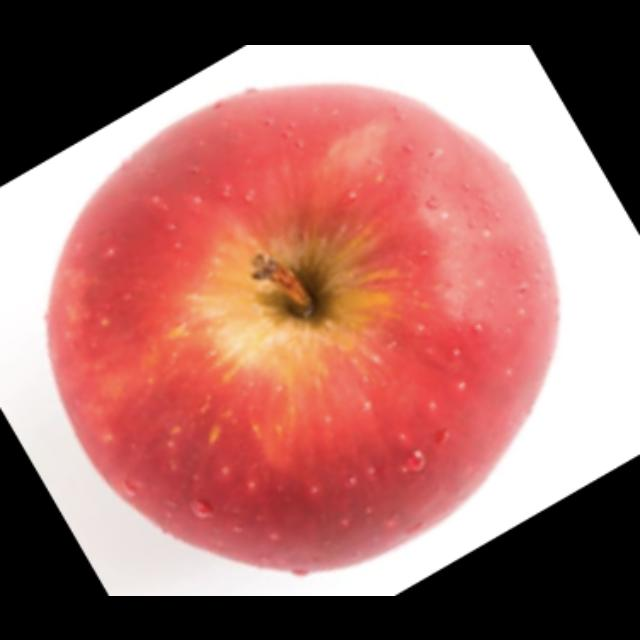Apel Segar: (40, 84, 558, 576)
